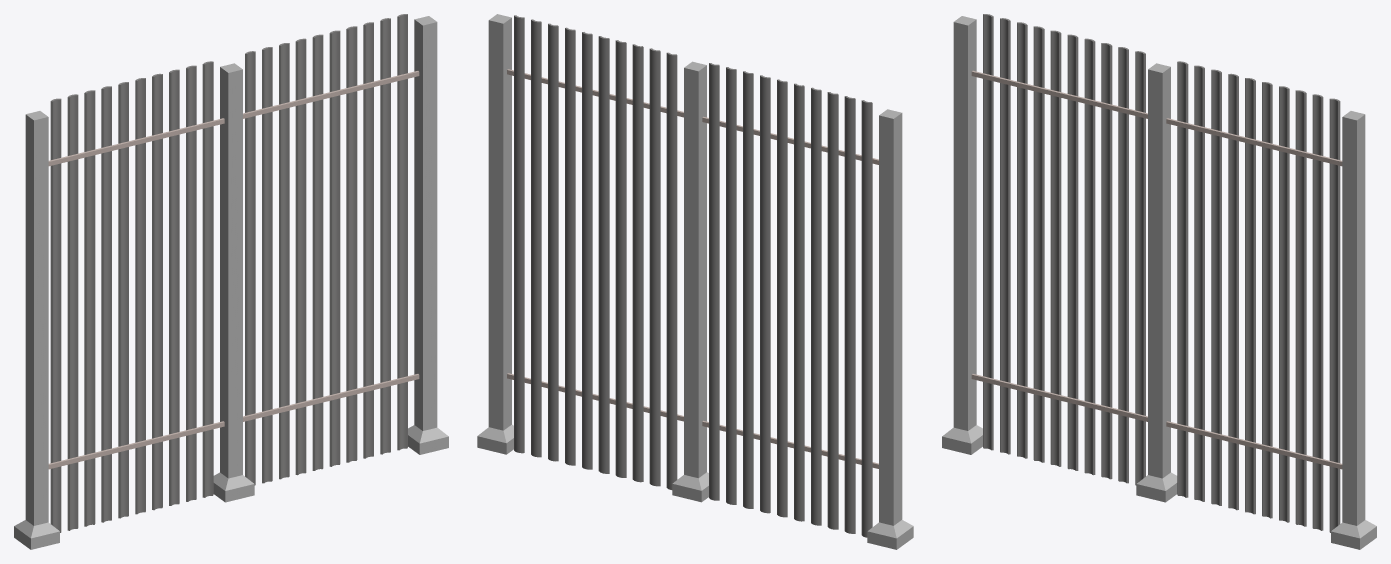
Rendered from Windbreak.fbx.
3 renders of one model, left to right at view 1: azimuth 30°, elevation 25°; view 2: azimuth 150°, elevation 25°; view 3: azimuth 330°, elevation 25°, orthographic.
Parts seen in each view (by area): view 1: polySurface54; view 2: polySurface54; view 3: polySurface54.
Part boxes in pixels (left/top/right/bottom): polySurface54: left=14, top=14, right=448, bottom=549; polySurface54: left=477, top=14, right=913, bottom=549; polySurface54: left=942, top=14, right=1376, bottom=549.
Bounding box in the file's own units: 4.95 × 4.9 × 0.3456.
